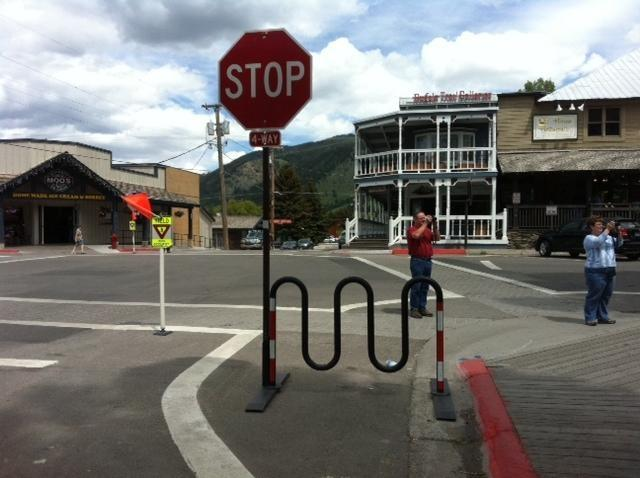car: (535, 218, 640, 260), (240, 230, 264, 250), (298, 238, 314, 250), (280, 241, 298, 249)
